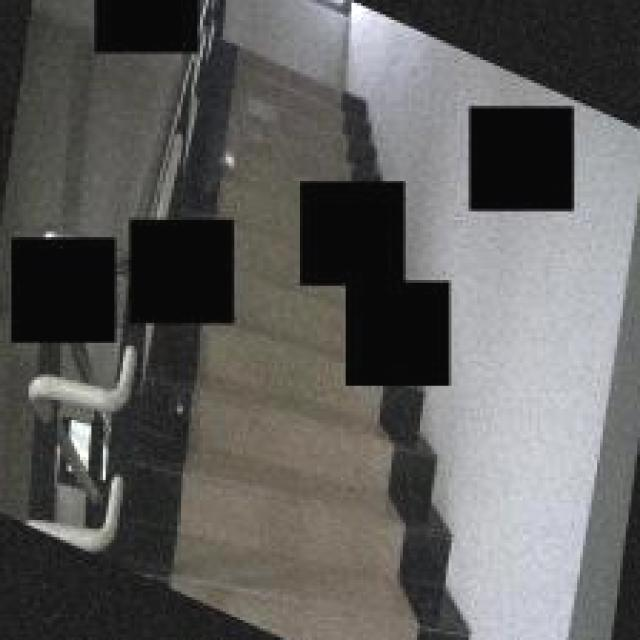upstair: (150, 398, 447, 633)
